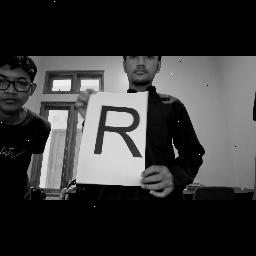r: (88, 99, 154, 169)
